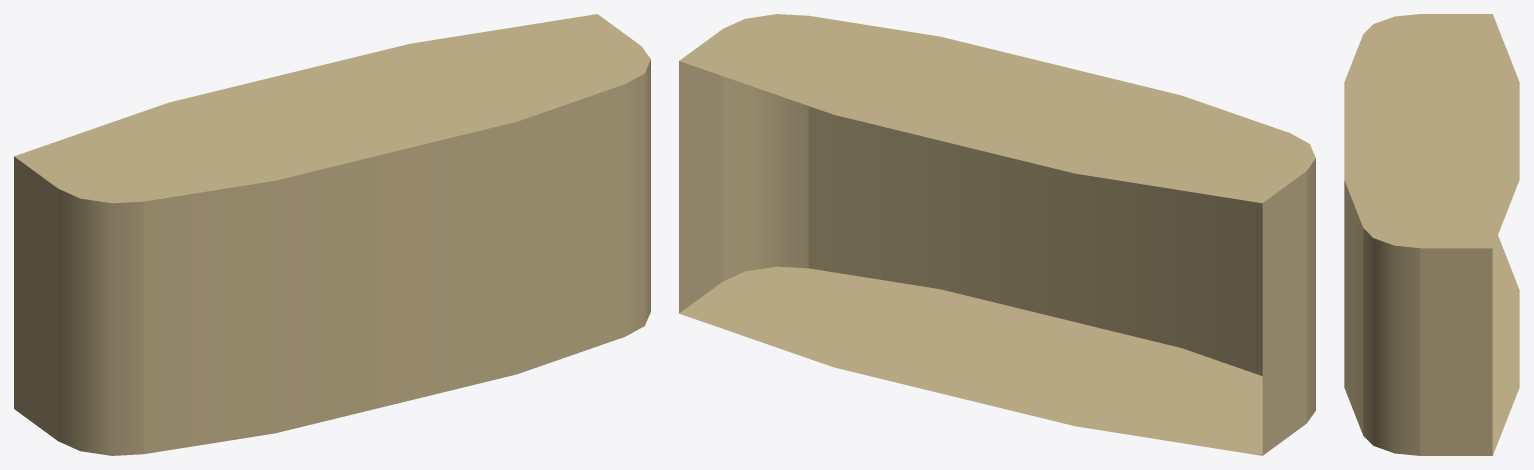
Rendered from intestines.fbx.
3 renders of one model, left to right at view 1: azimuth 30°, elevation 25°; view 2: azimuth 150°, elevation 25°; view 3: azimuth 270°, elevation 25°, orthographic. The views are drawn at different scales.
Parts seen in each view (by area): view 1: Cube; view 2: Cube; view 3: Cube.
Boxes of the visible parts, box(x1,y1,x2,y2) form: Cube: box(14, 14, 650, 455); Cube: box(679, 14, 1315, 455); Cube: box(1344, 14, 1519, 455).
Bounding box in the file's own units: 34.8 × 14.4 × 11.02.
